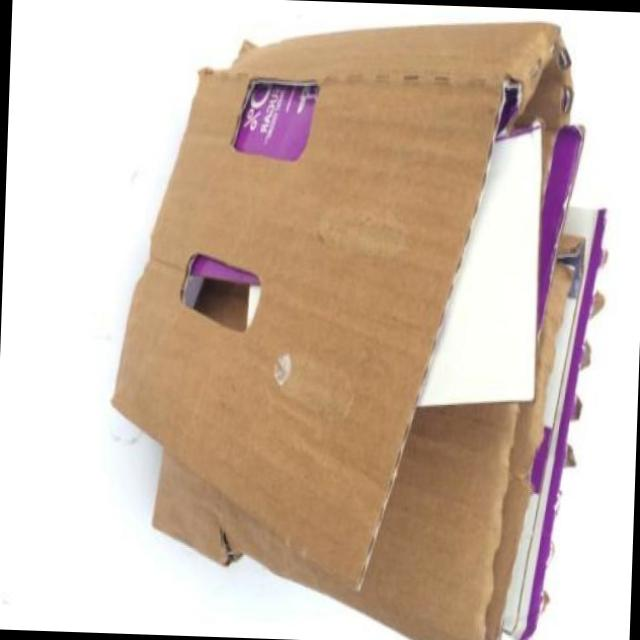cardboard paper: (112, 18, 603, 640)
